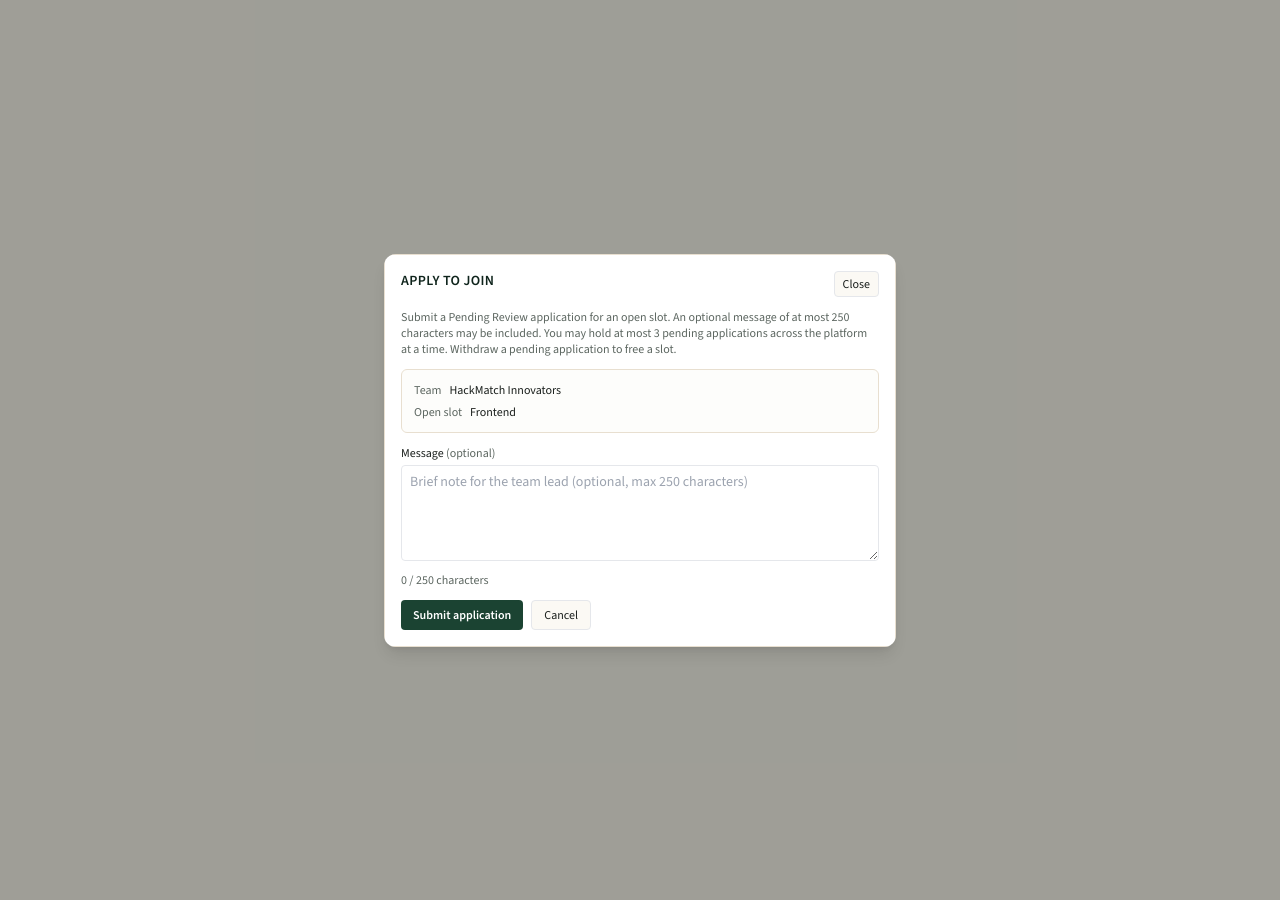
Test: ApplicationFormPanel (US-018 / #171) › submits successfully and shows Pending Review success notice
This screenshot has width=1280, height=900.
In the text box with test id "application-message-input": (640, 512) [401,464,879,560], type "Ready to help"
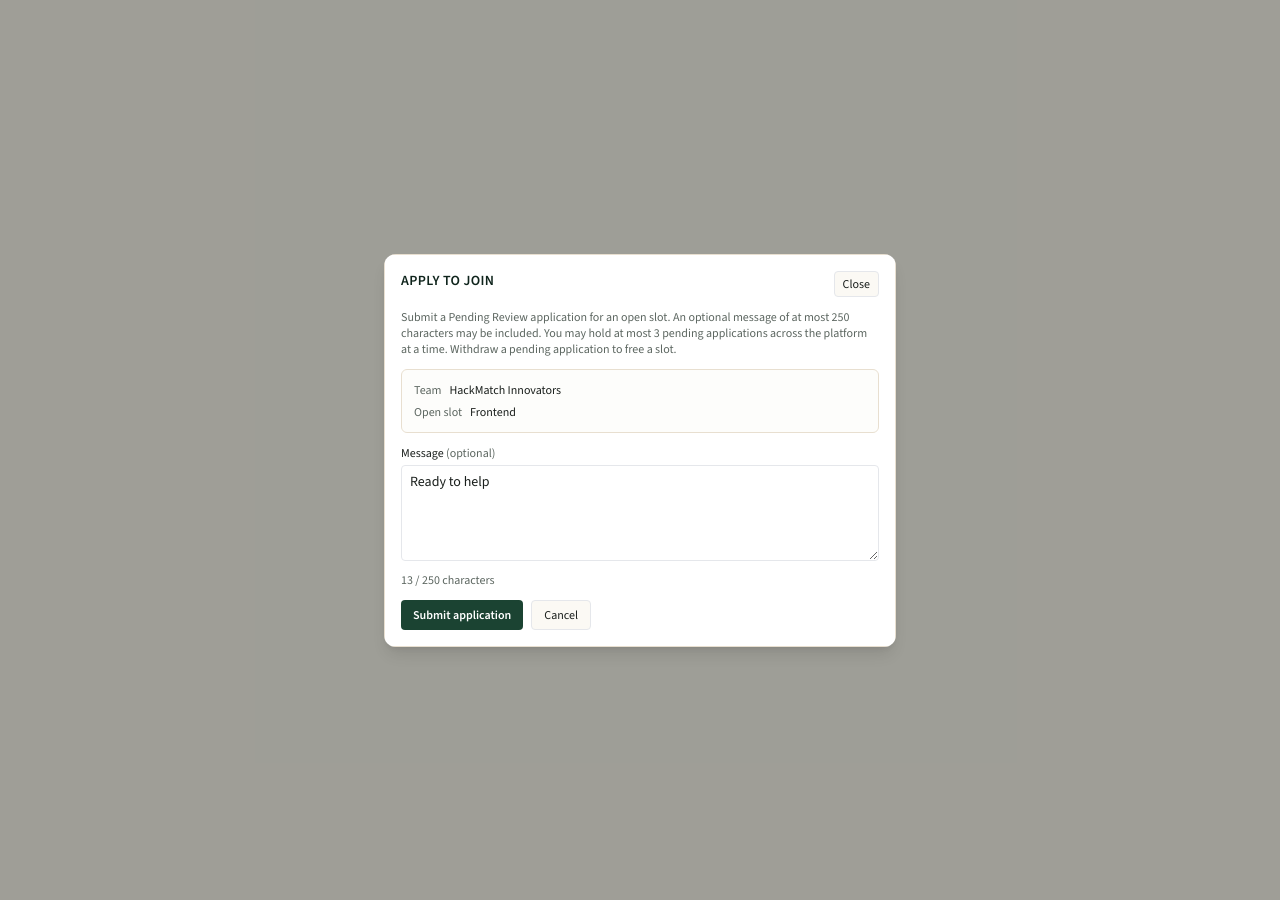
Click the button with test id "submit-application": (462, 614) [401,600,523,630]
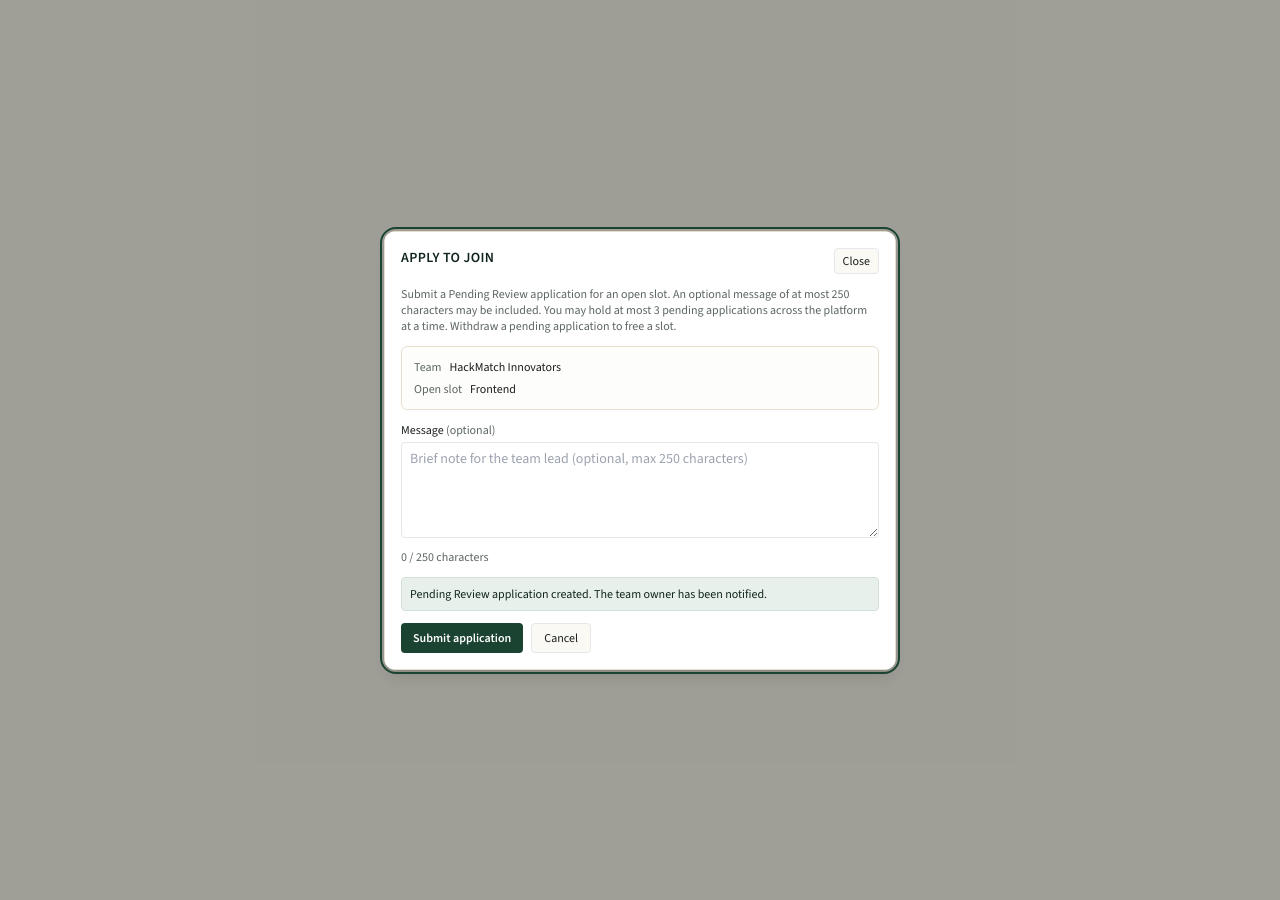
Now the message with test id "application-form-success" shows "Pending Review", box [410,586,767,602]
Now the text box with test id "application-message-input" is empty, box [401,442,879,538]
